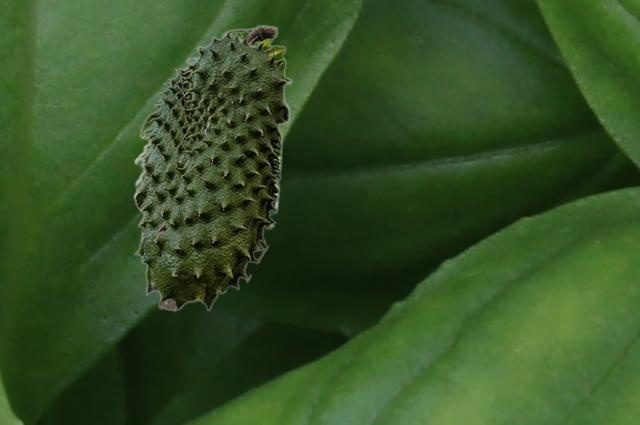guyabano: (132, 24, 291, 311)
